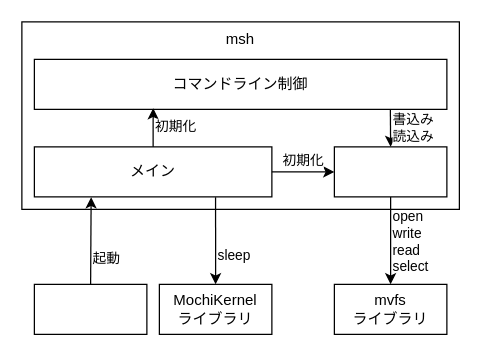
Some shapes in this 481 by 356 pixel diagram are drawn without their labels. The shapes that lost their labels are listed below. From the top down, each one's centre as x and y in pixels, then its label:
the point at 390,171: ターミナル 管理
the point at 90,308: MochiKernel
